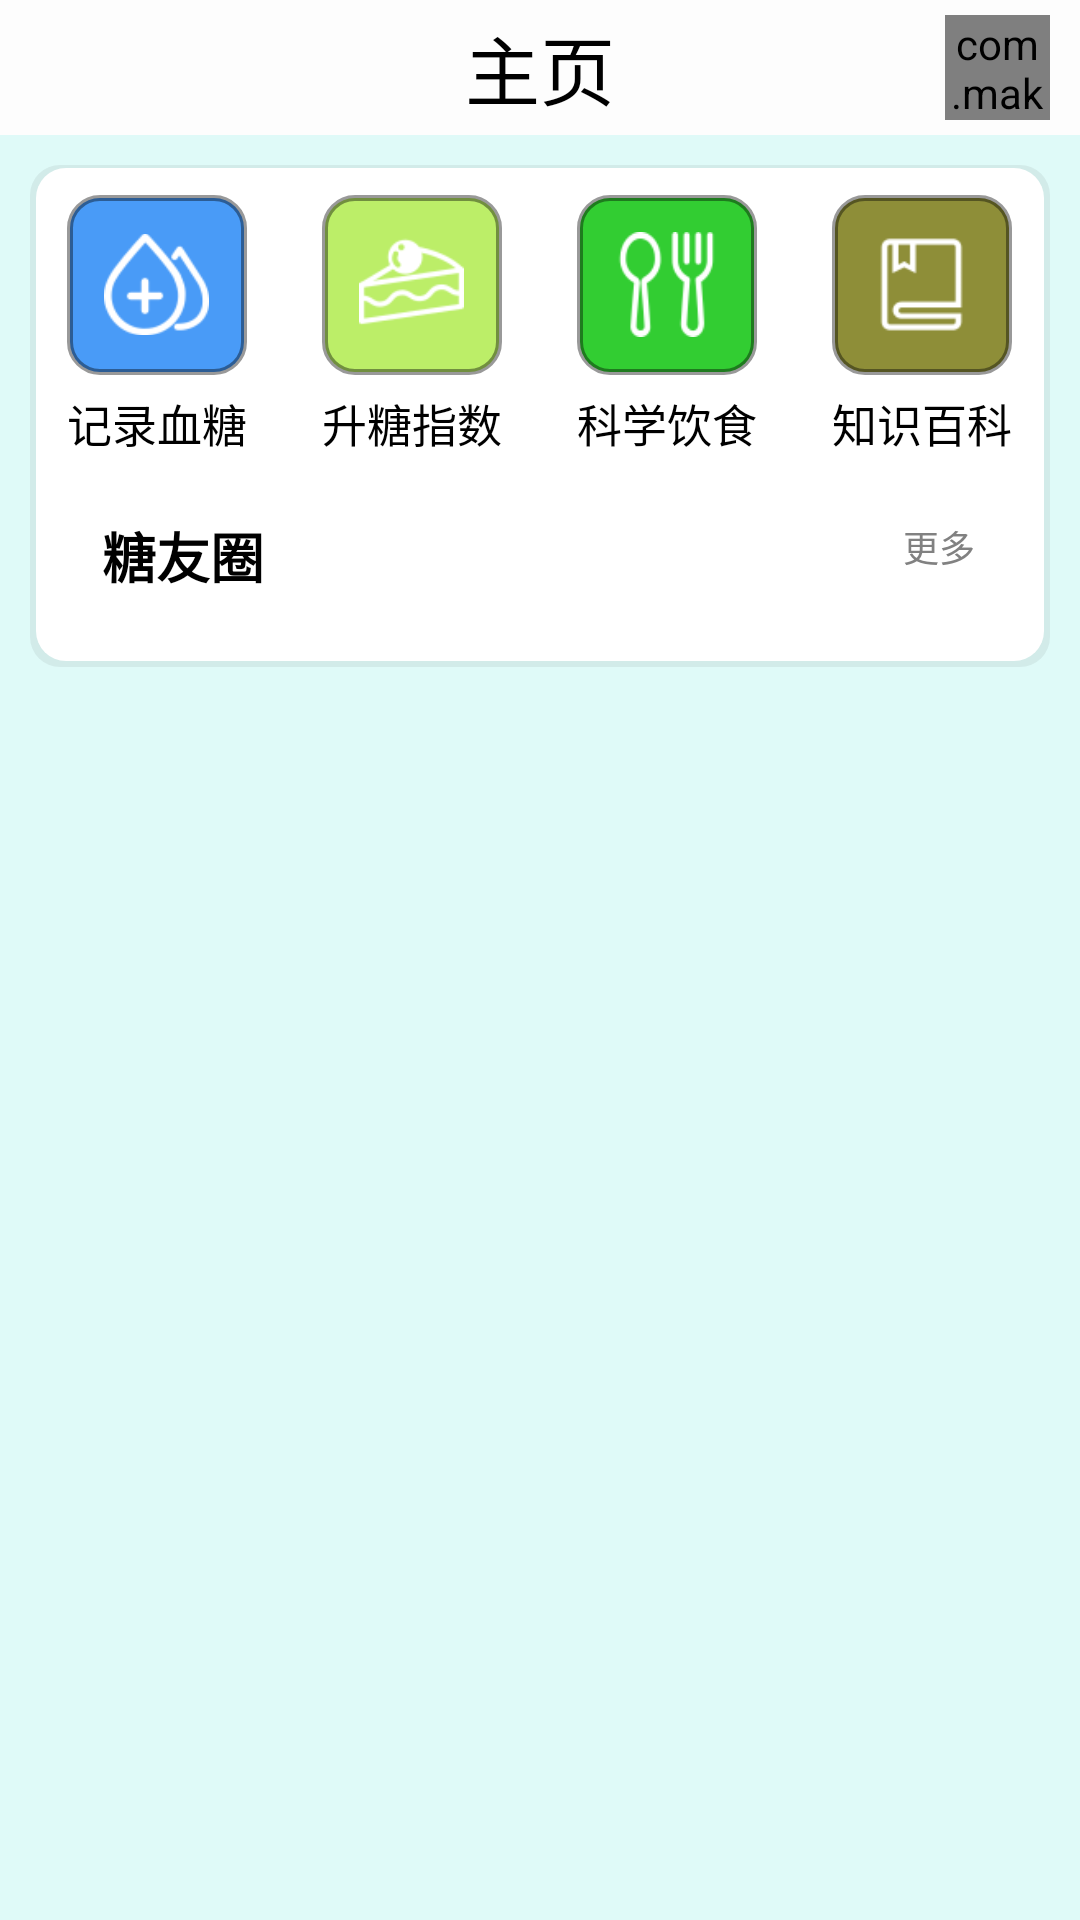

Where to tap for icons on this 1080px x 1920px app screen, as (x,y):
home diet: (666,284)
home wiki: (921,284)
home xuetang: (156,284)
